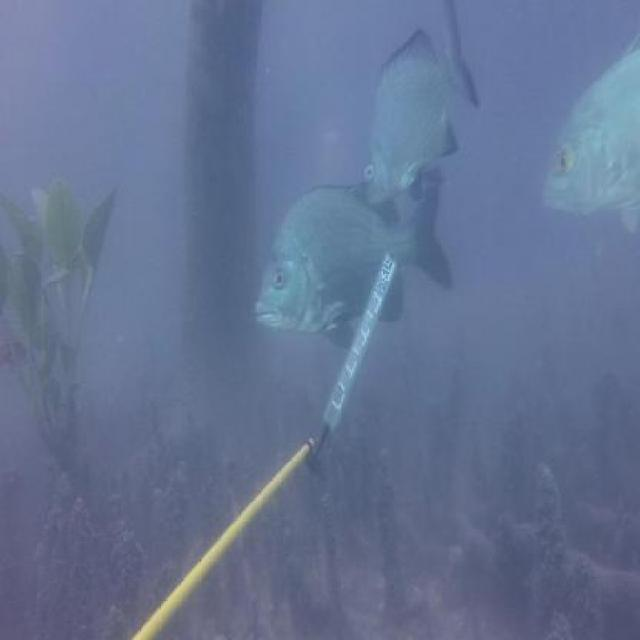Caranx: (538, 25, 640, 238)
acanthopagrus_palmaris: (254, 178, 457, 356), (360, 1, 483, 212)
